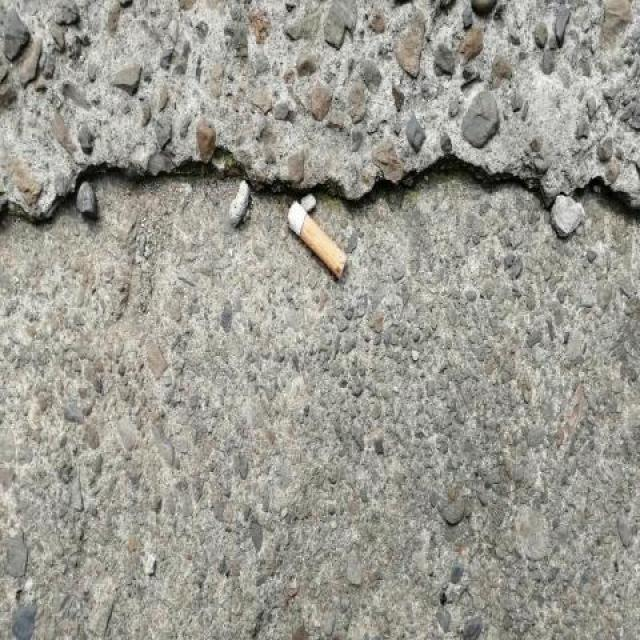non-organic waste: (282, 196, 353, 284)
